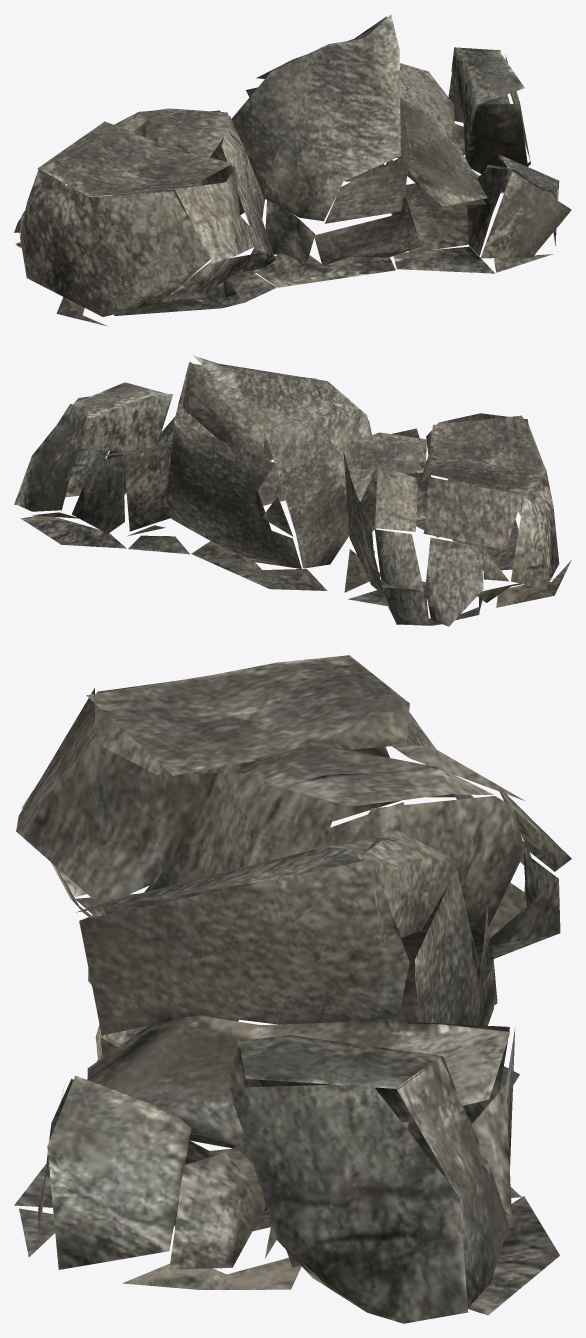
Rendered from rock_b_lo.glb.
The picture shows the model from 3 angles, top to bottom: view 1: azimuth 30°, elevation 25°; view 2: azimuth 150°, elevation 25°; view 3: azimuth 270°, elevation 25°; orthographic projection. The views are drawn at different scales.
Visible parts, largest first — view 1: boulder_02; view 2: boulder_02; view 3: boulder_02.
Boxes of the visible parts, x1=… form: boulder_02: x1=14, y1=14, x2=571, y2=326; boulder_02: x1=14, y1=355, x2=571, y2=626; boulder_02: x1=14, y1=655, x2=571, y2=1323.
Size of the model in its own units: 0.9846 by 0.3415 by 0.4938.
Materials: 1 (1 with a texture image).
